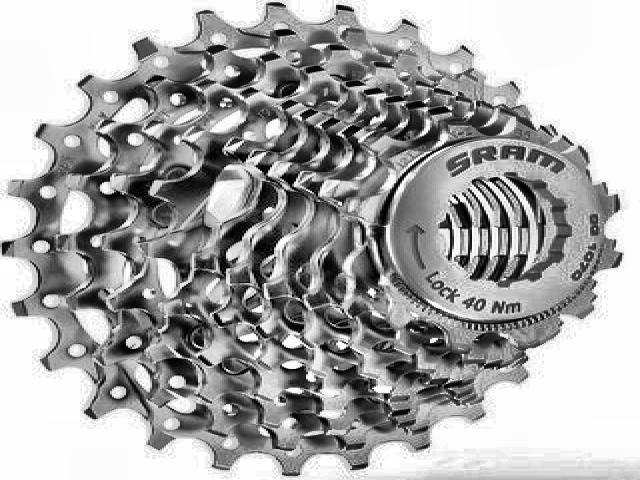cassette: (6, 4, 628, 478)
